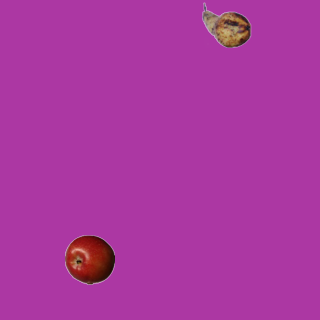Apple Braeburn: (64, 234, 114, 284)
Pear Abate: (201, 0, 251, 50)
